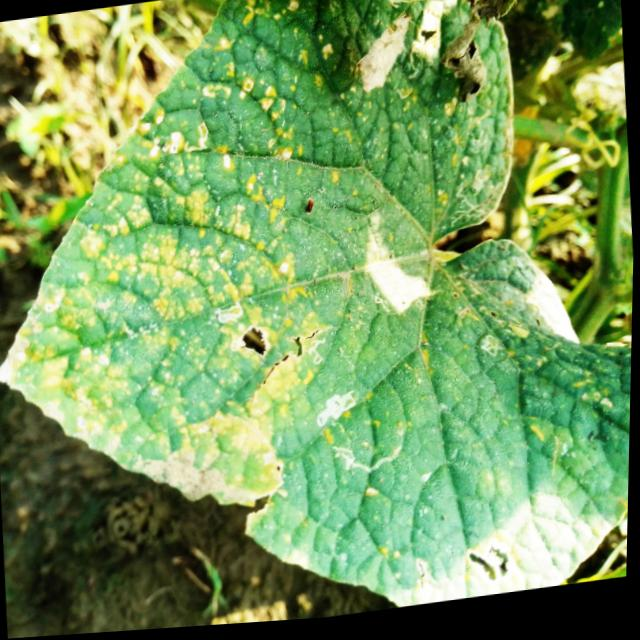Downy-Mildew: (16, 0, 633, 611)
